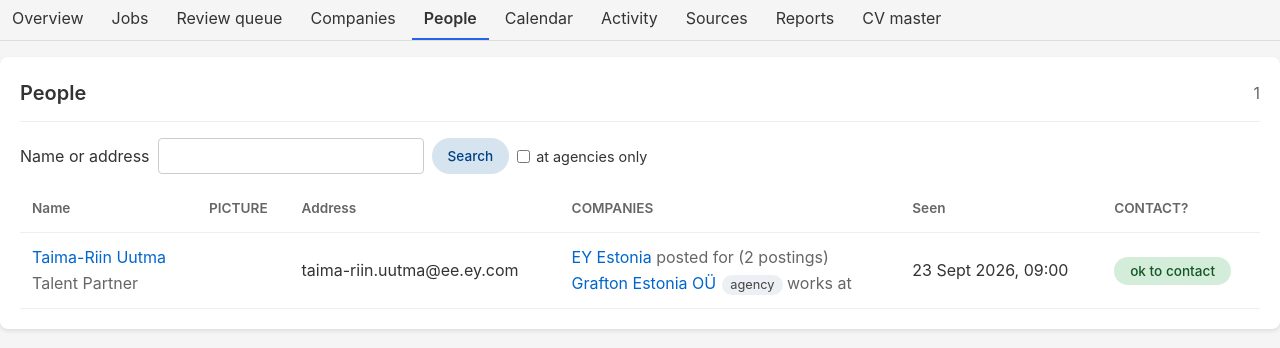
Test: MasiPersons › flags a person not to be contacted through the API
The width and height of the screenshot is (1280, 348).
Click the button "ok to contact".
click(1173, 271)  # box [1114,257,1231,285]
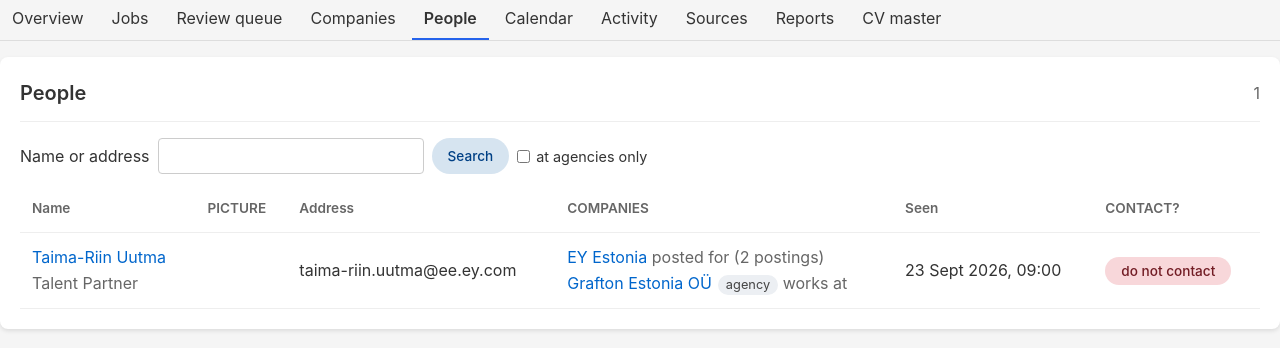
Check: the button "do not contact" is shown, box [1105,257,1231,285]
